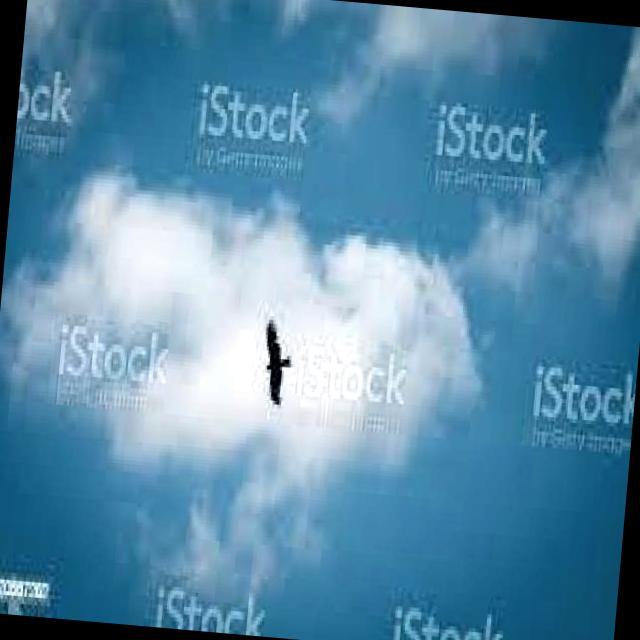bird: (257, 310, 296, 406)
